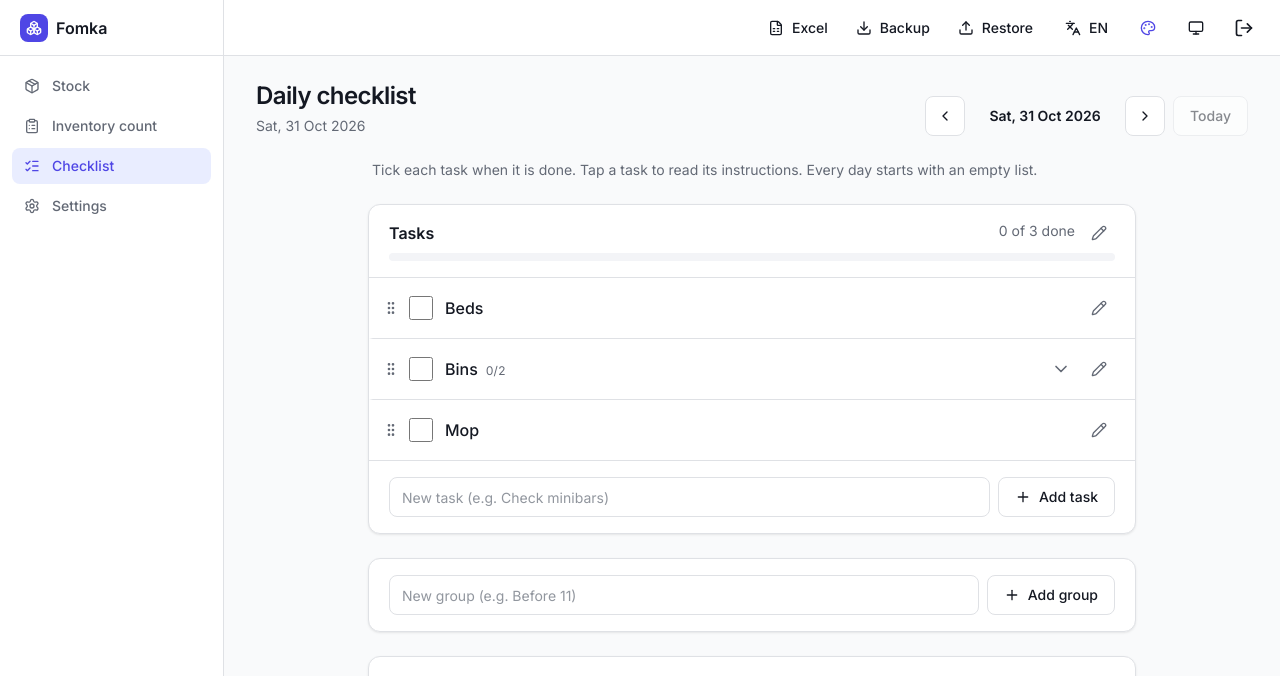
Scenario: checklist › the editor makes lists with the buttons and Enter
Click the button named "Edit Beds" at point(1099, 308), box [1083,292,1115,324]
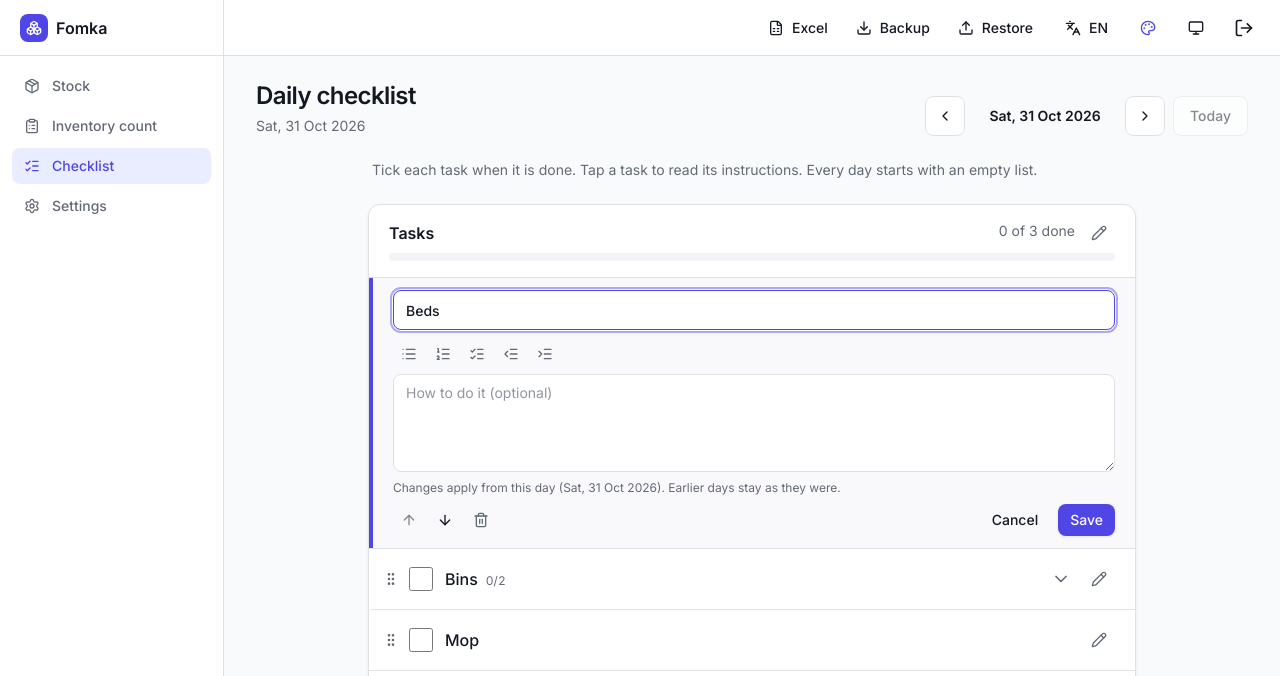
Click the text box named "Instructions" at point(754, 423), box [393,374,1115,472]
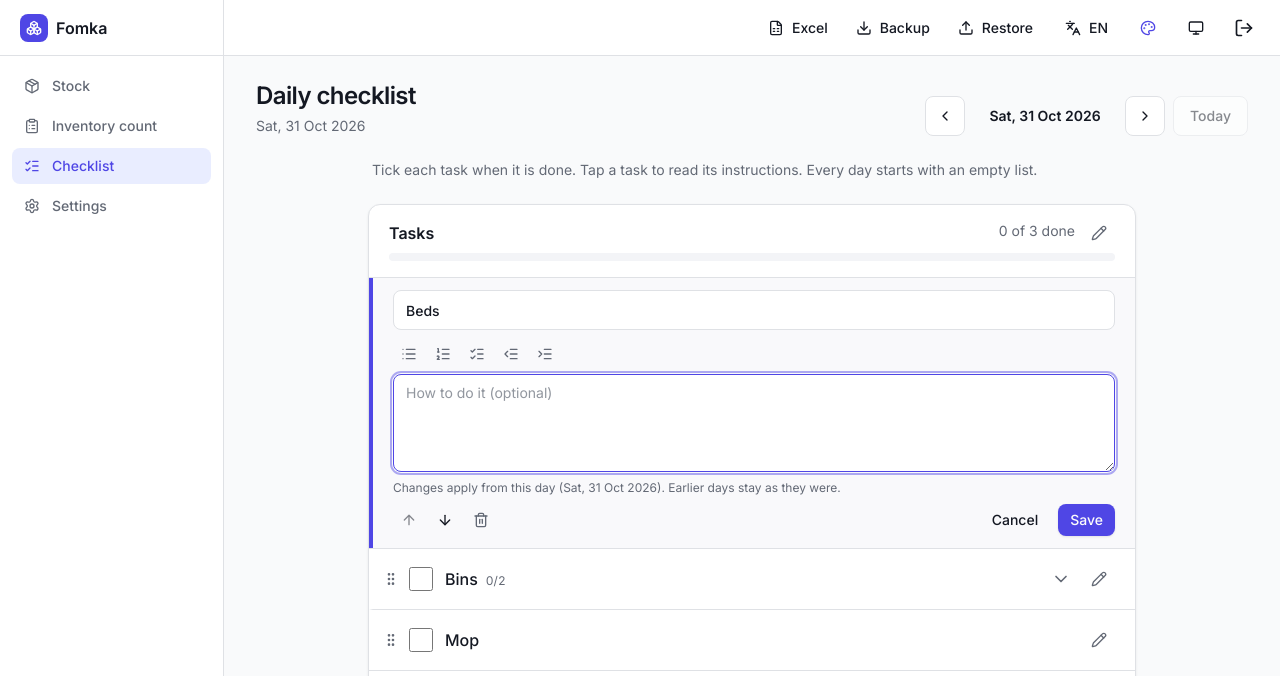
Click the button named "Checklist" at point(477, 354), box [461,338,493,370]
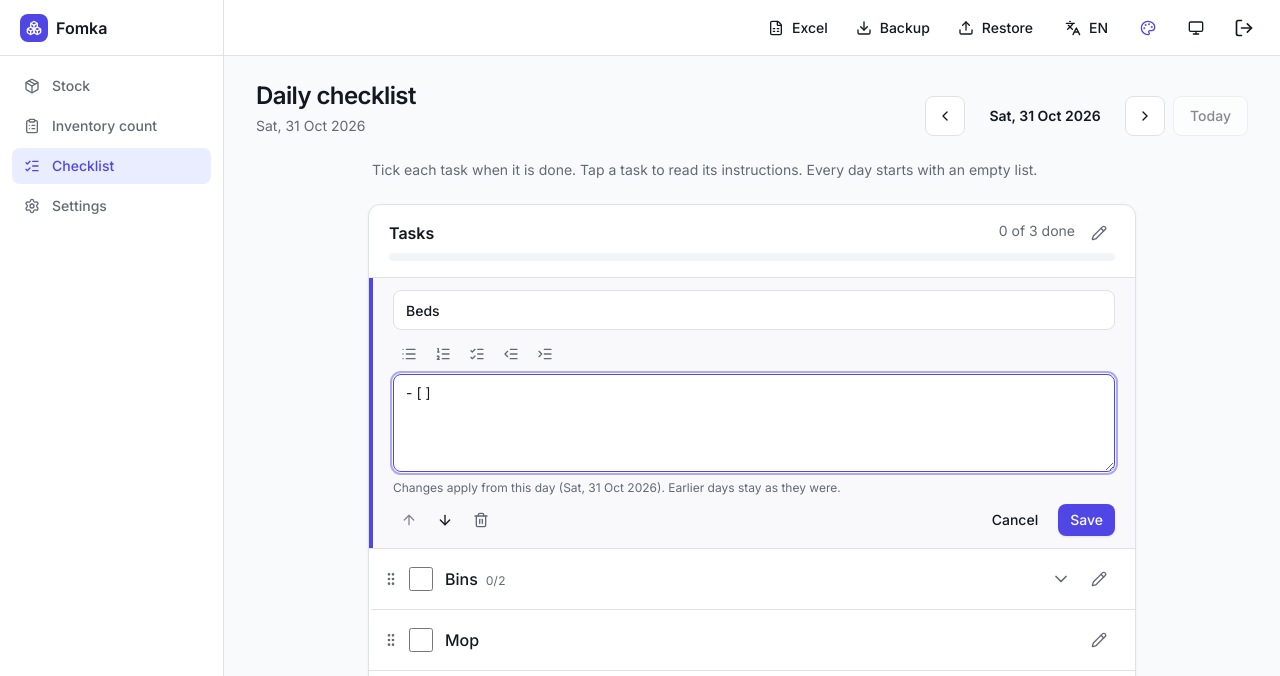
Type keys "Sheets{Enter}Pillows{Enter}{Enter}Done"
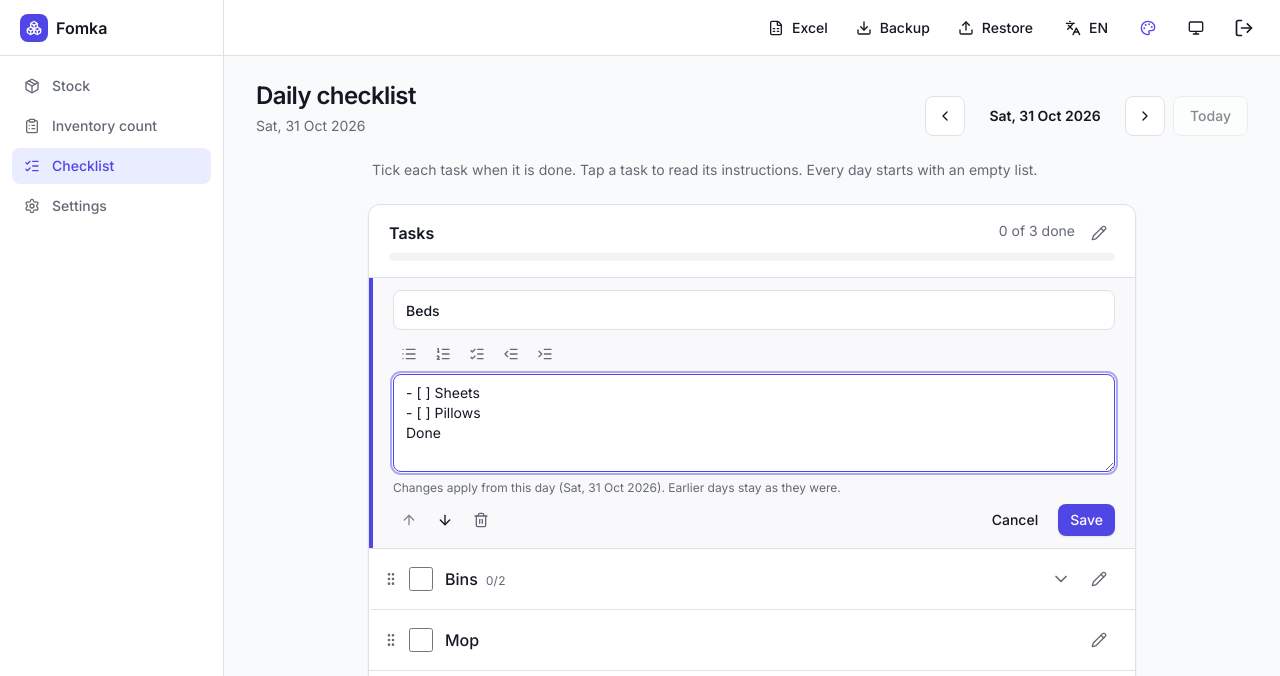
Click the button "Save" at point(1087, 520), box [1058,504,1115,536]
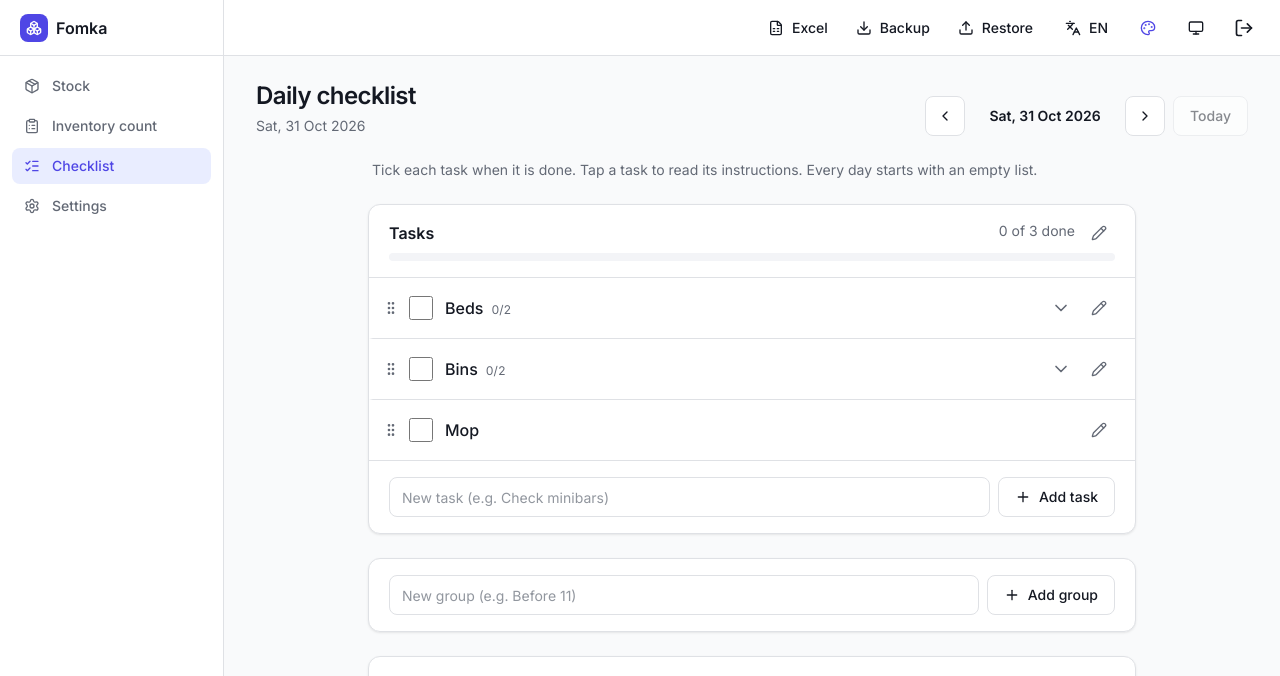
Result: the text "0/2" is shown 2 times at [491,302,511,318]; [486,363,506,379]
